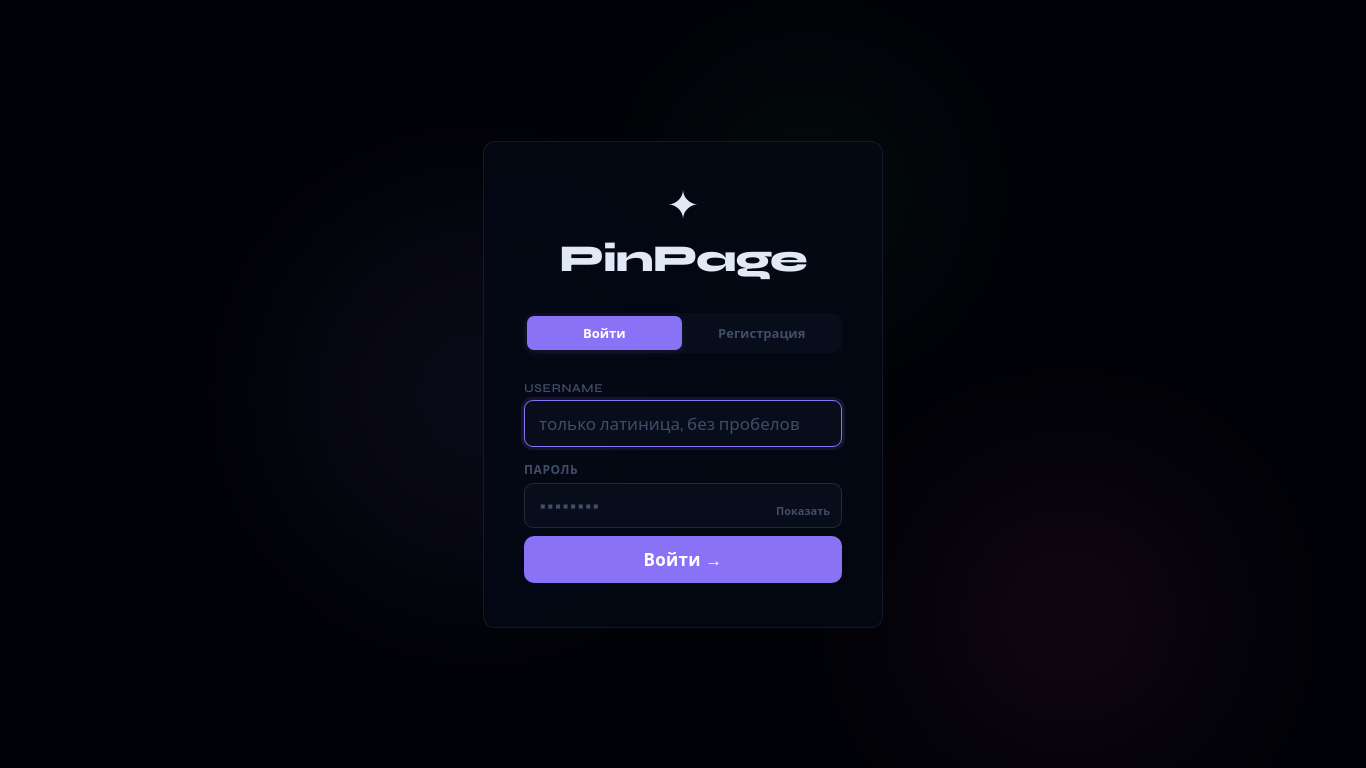
вход и регистрация › регистрация создаёт аккаунт (пароль уходит в отдельное хранилище, а не в профиль) и стену
The image size is (1366, 768).
Click the button "Регистрация" at (762, 332), box [684,316,839,350]
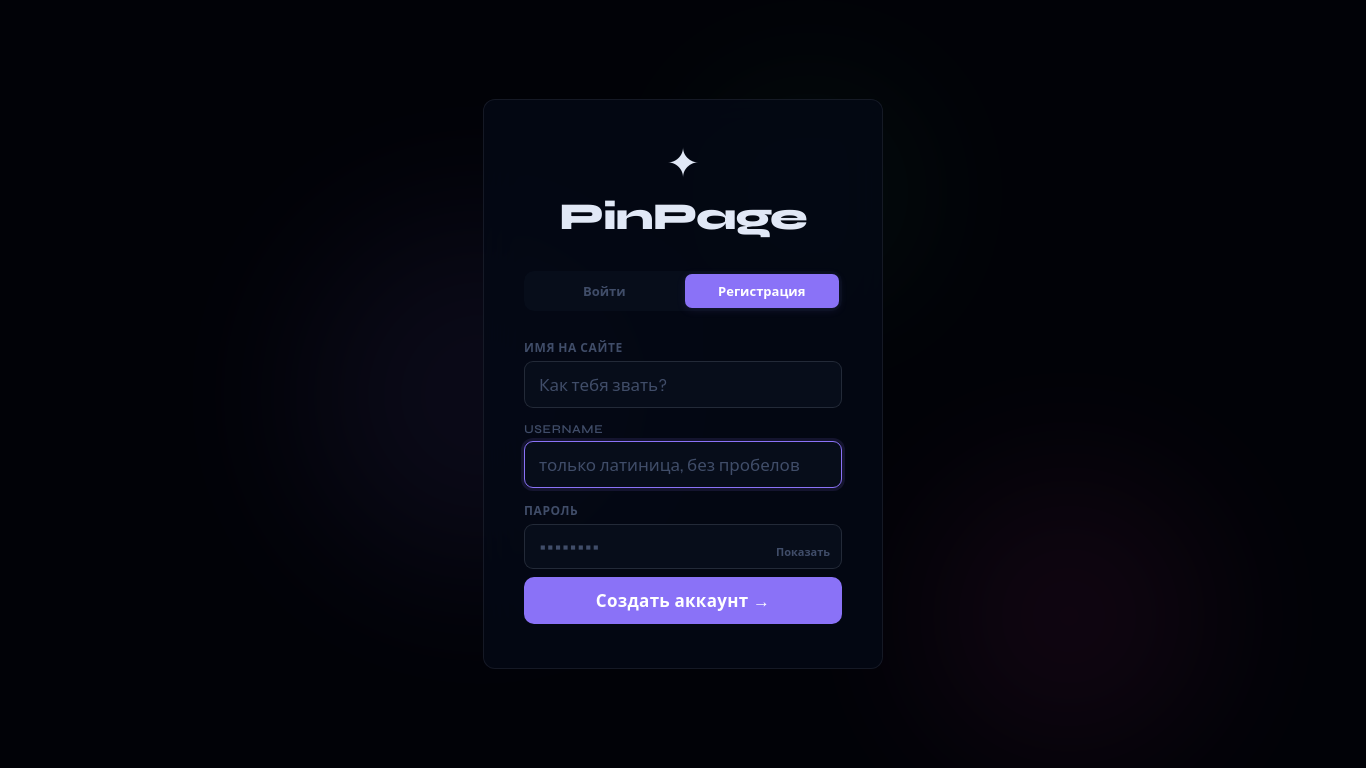
Type "Вася" into the field with placeholder "Как тебя звать?" at (683, 384), box [524,361,842,408]
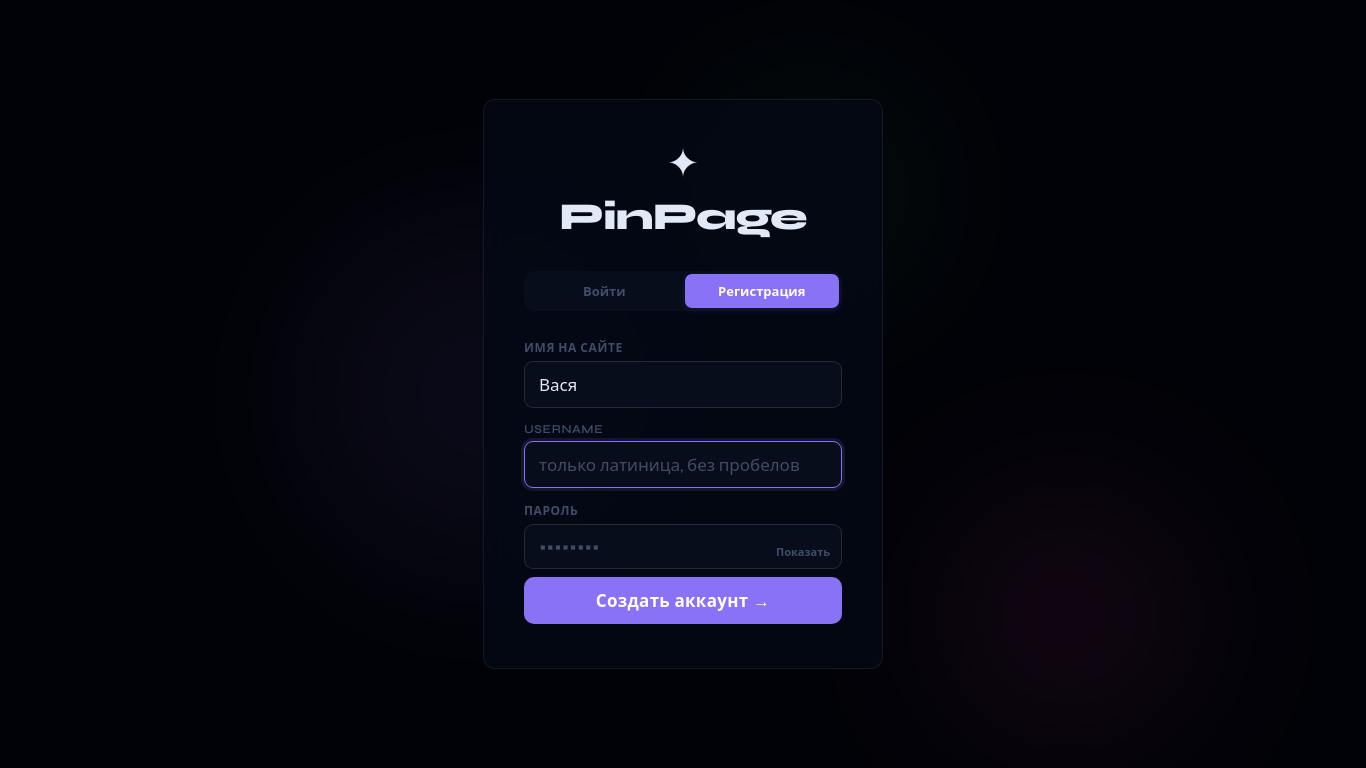
Type "vasya" into the field with placeholder "только латиница, без пробелов" at (683, 464), box [524,441,842,488]
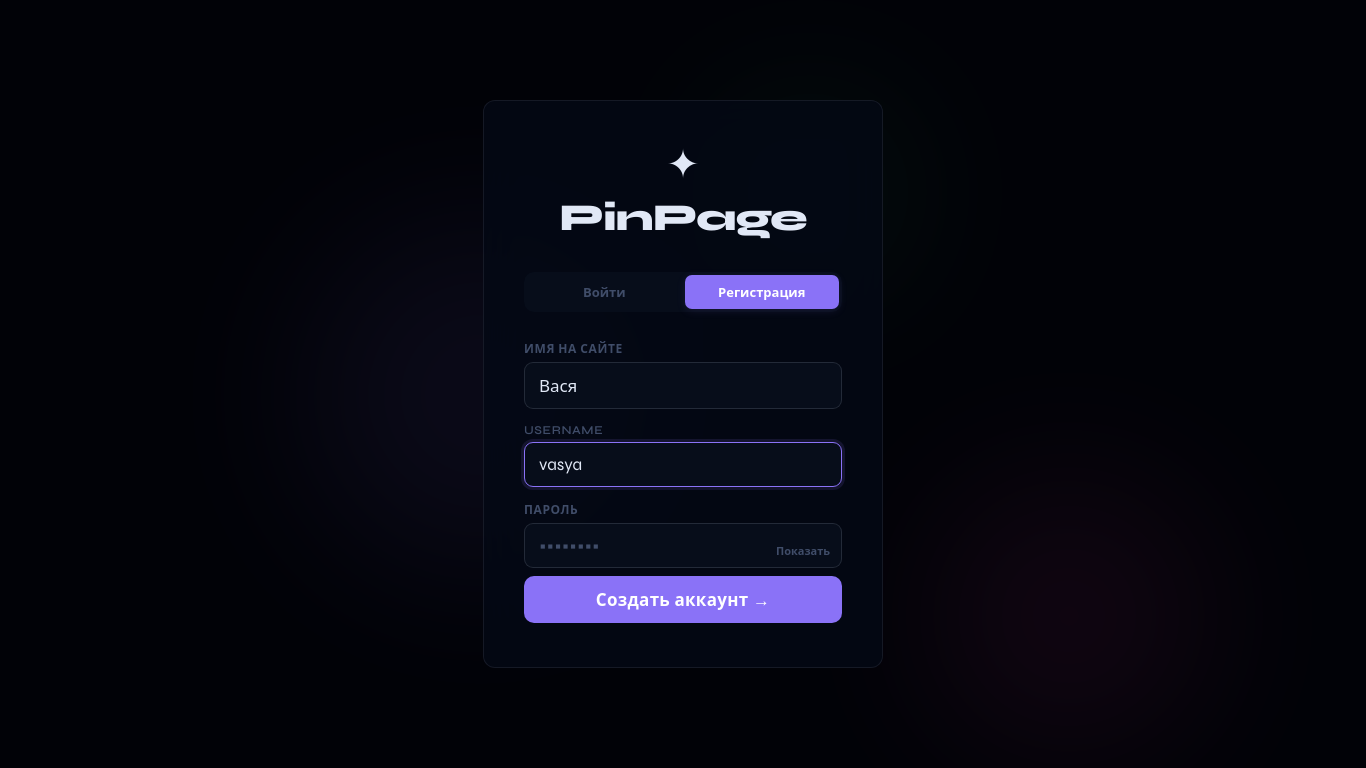
Type "pass1234" into the password field with placeholder "••••••••" at (683, 546), box [524,523,842,568]
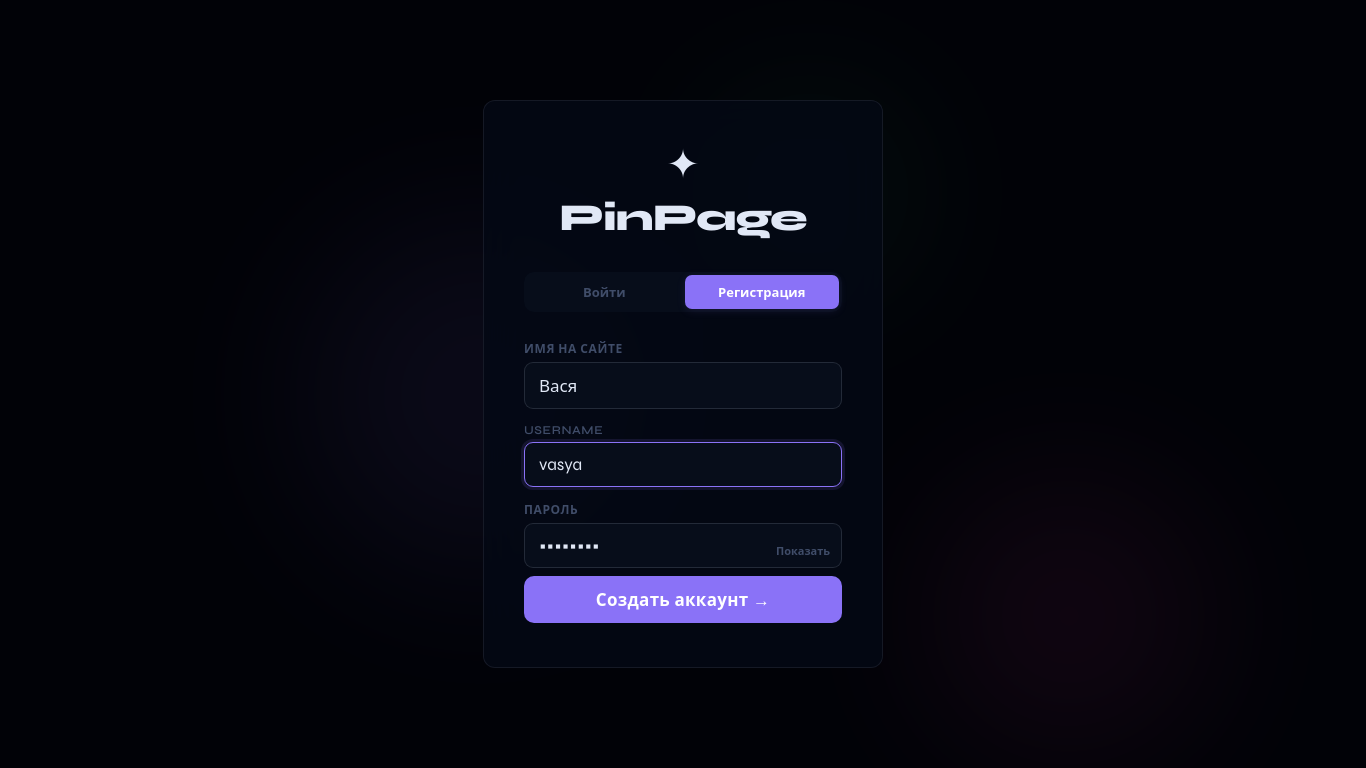
Click the button "Создать аккаунт →" at (683, 600), box [524,576,842,623]
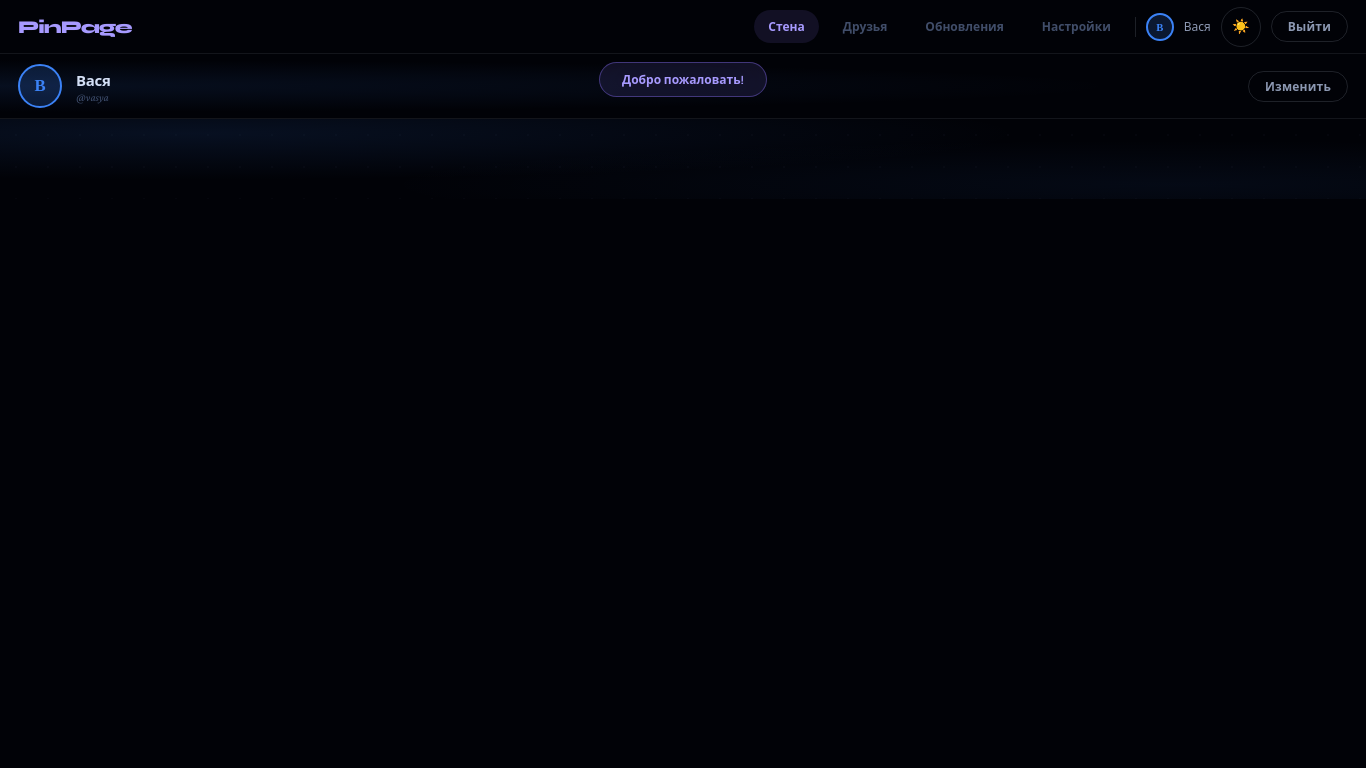
Result: the 1st text "Вася" is shown at [1184,18,1211,35]
